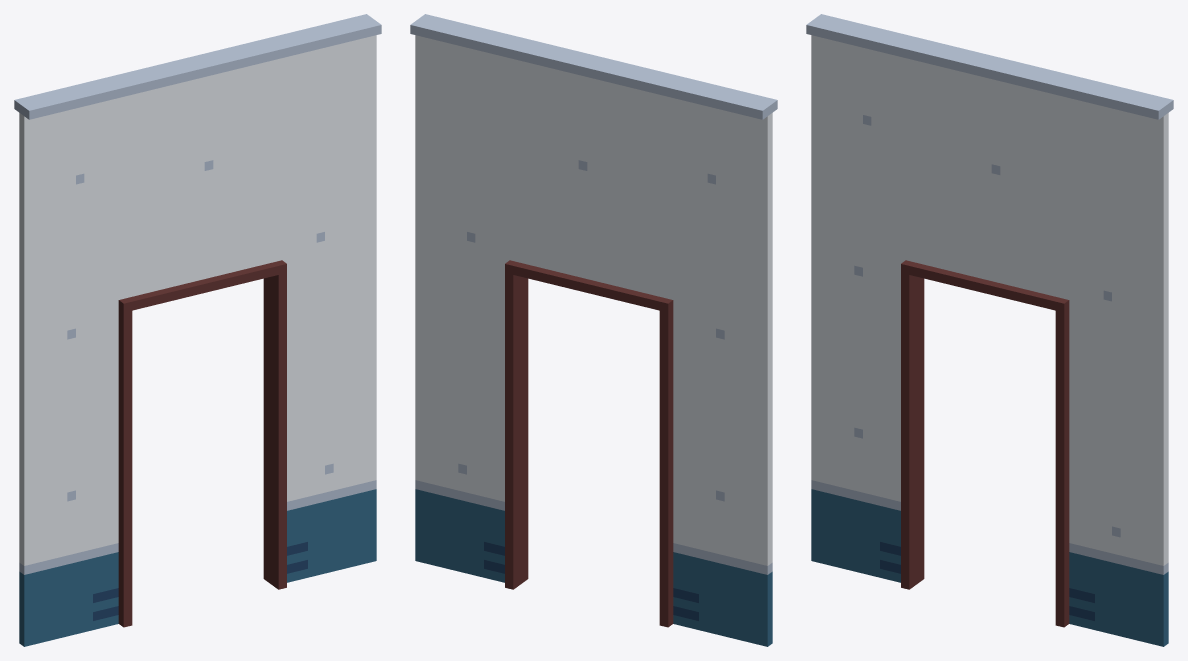
Rendered from wall-door-frame.obj.
The picture shows the model from 3 angles, left to right: view 1: azimuth 30°, elevation 25°; view 2: azimuth 150°, elevation 25°; view 3: azimuth 330°, elevation 25°; orthographic projection.
Size of the model in its own units: 4.1 by 6 by 0.3.
1 material, 1 textured.
